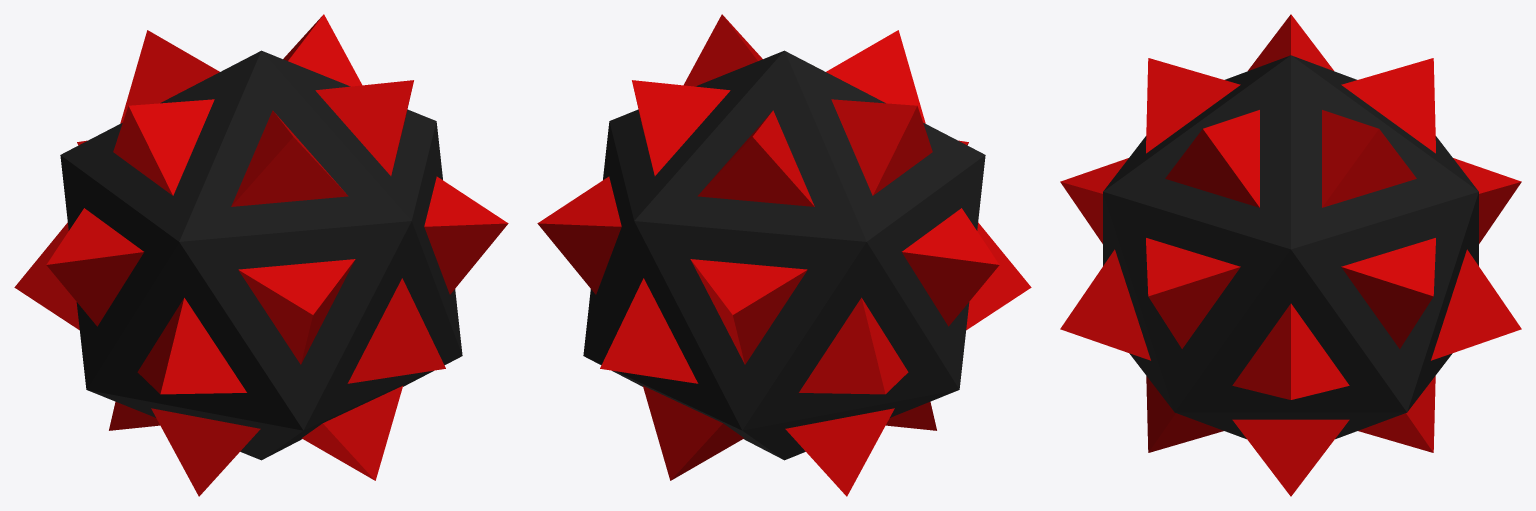
The model's file is SpikeBall.fbx.
3 renders of one model, left to right at view 1: azimuth 30°, elevation 25°; view 2: azimuth 150°, elevation 25°; view 3: azimuth 270°, elevation 25°, orthographic. The views are drawn at different scales.
Parts seen in each view (by area): view 1: Icosphere; view 2: Icosphere; view 3: Icosphere.
Part boxes in pixels (x1,y1,x2,y2): Icosphere: [14, 14, 508, 496]; Icosphere: [537, 14, 1031, 496]; Icosphere: [1060, 14, 1521, 496].
Size of the model in its own units: 54.96 by 50 by 52.27.
